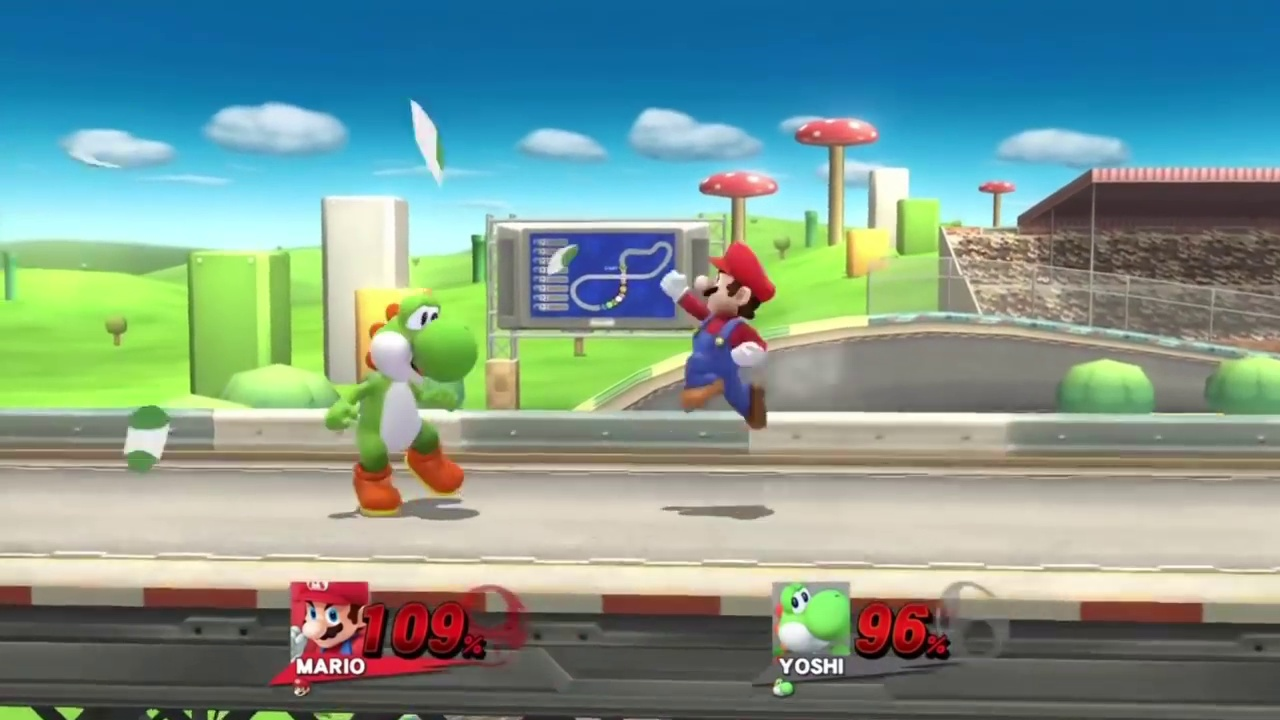Mario: (659, 244, 776, 431)
